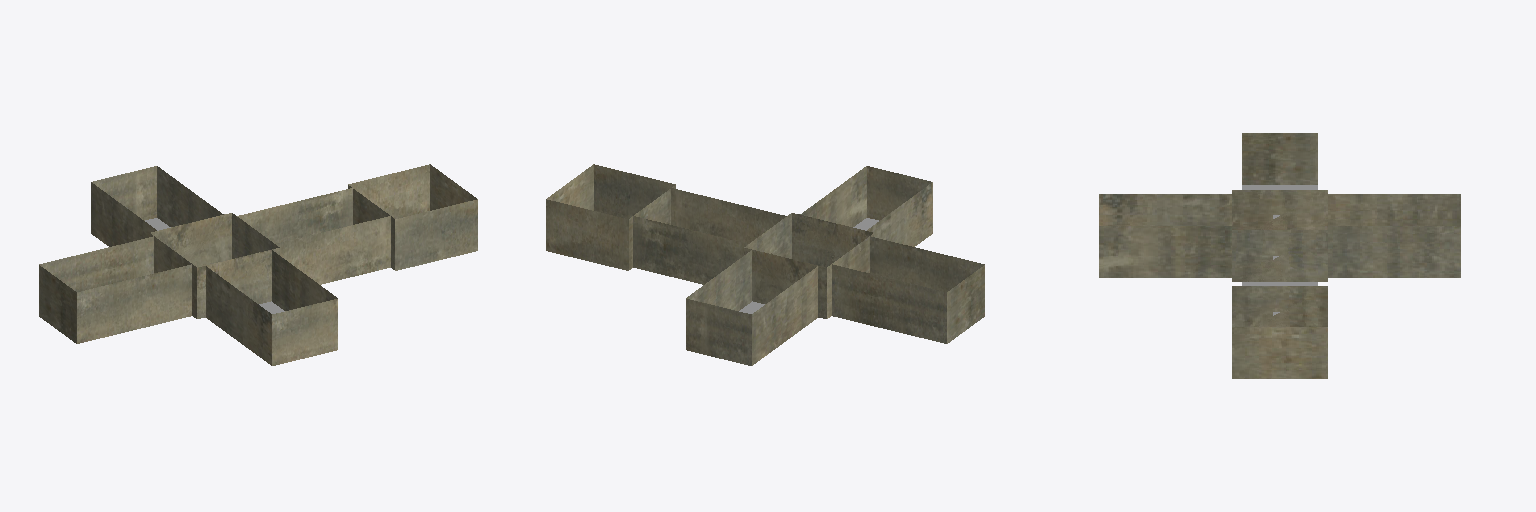
3 views of the same model, side by side, from view 1: azimuth 30°, elevation 25°; view 2: azimuth 150°, elevation 25°; view 3: azimuth 270°, elevation 25° (orthographic).
Visible parts, largest first — view 1: Plane.023; view 2: Plane.023; view 3: Plane.023, Plane.
Part boxes in pixels (x1,y1,x2,y2): Plane.023: (39,164,477,365); Plane.023: (546,164,984,365); Plane.023: (1099,133,1460,378); Plane: (1242,185,1317,315).
Size of the model in its own units: 24 by 3 by 19.
Materials: 2 (1 with a texture image).